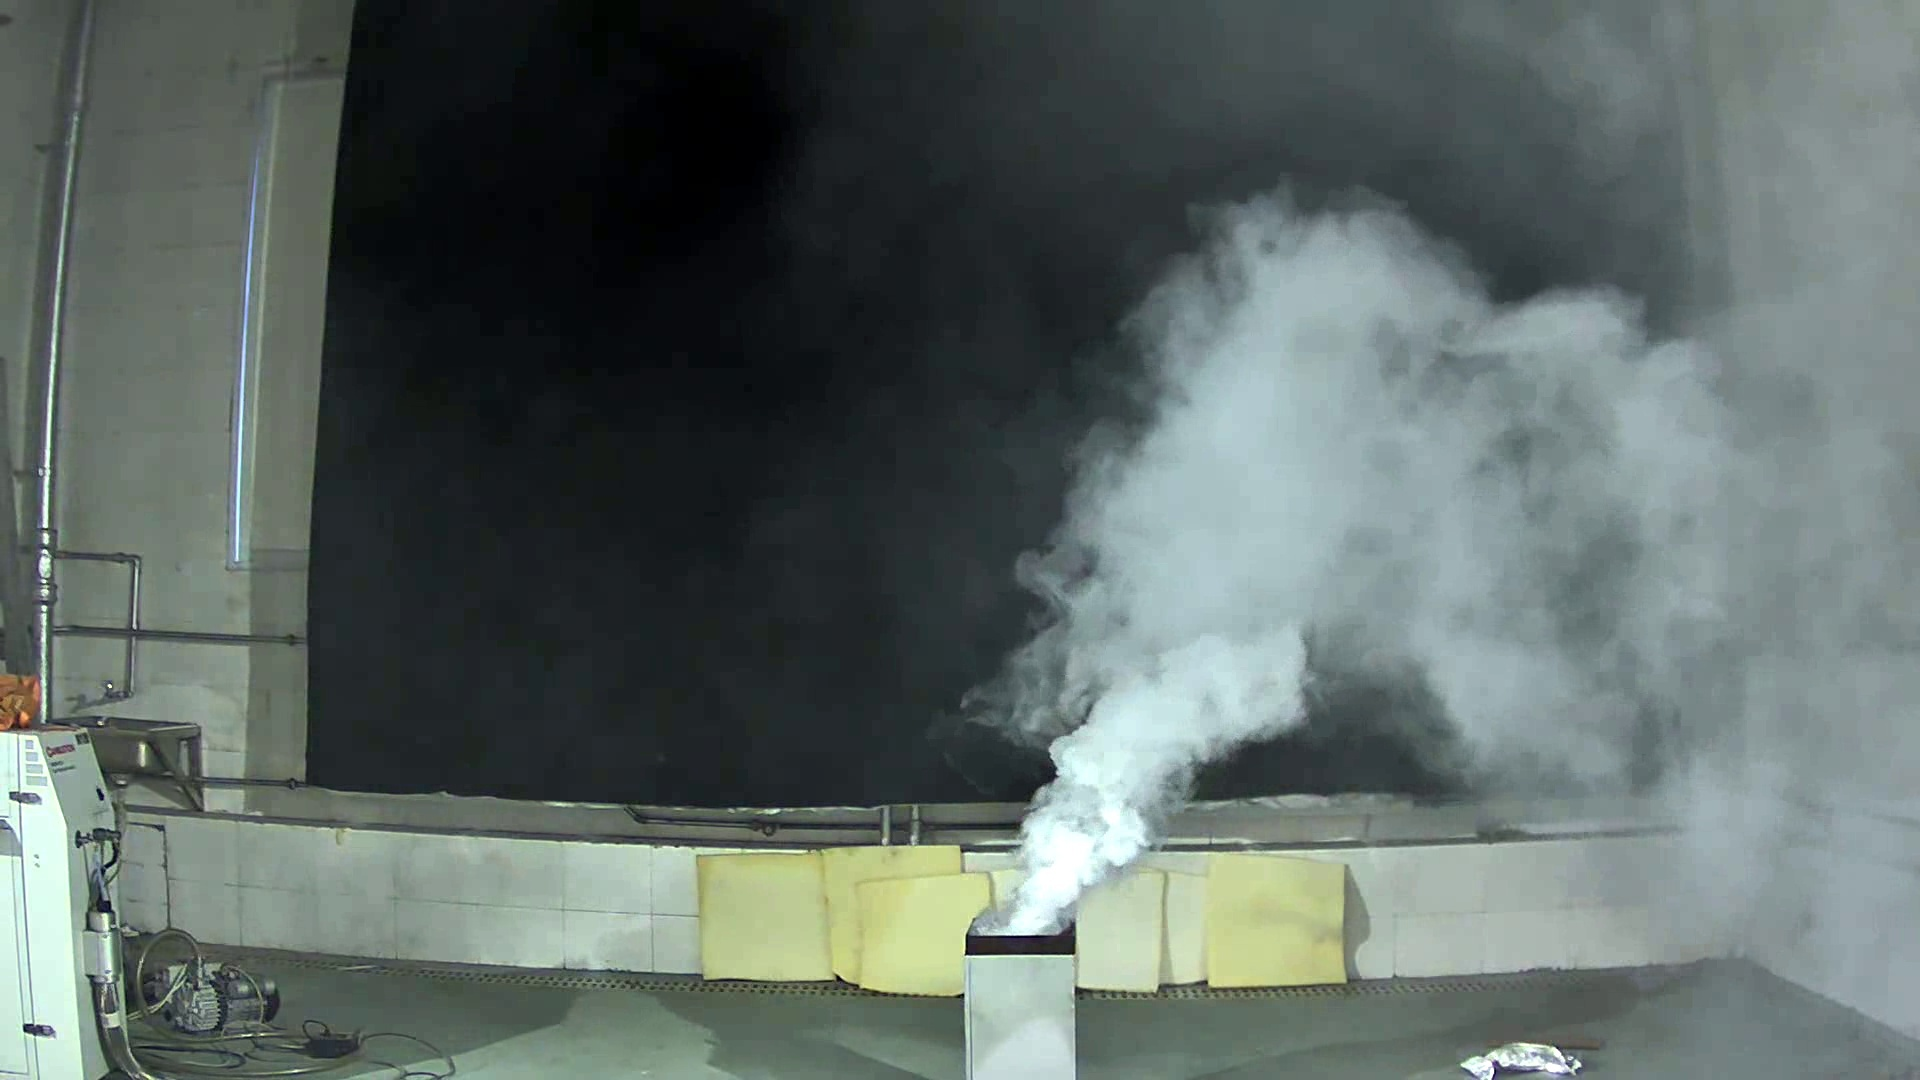smoke: (931, 175, 1913, 955)
